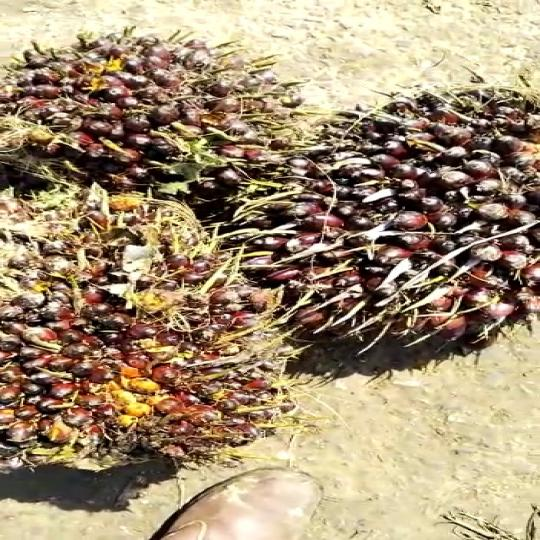kurang masak: (0, 169, 307, 484), (234, 71, 540, 373), (7, 24, 328, 240)
